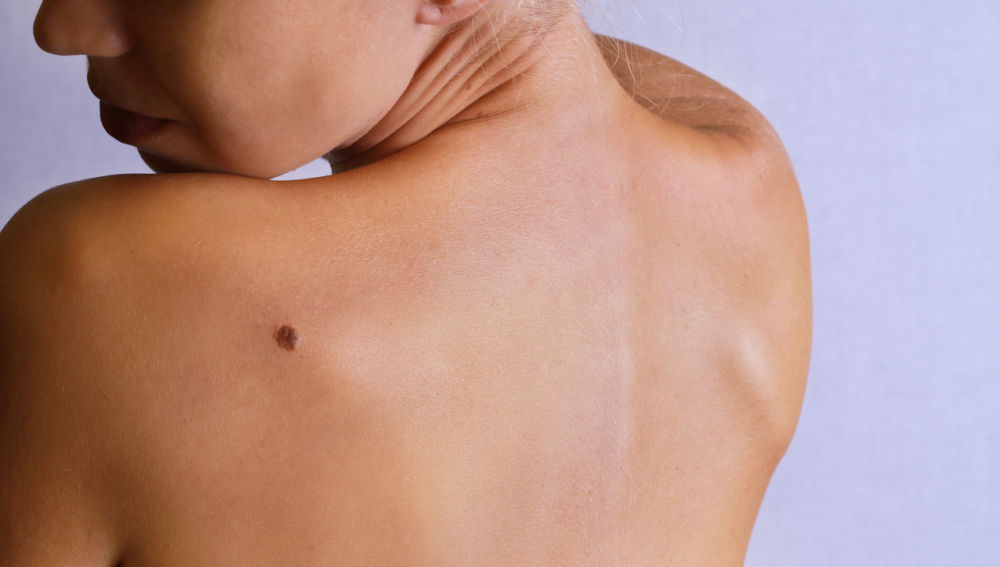mole: (266, 315, 309, 361)
